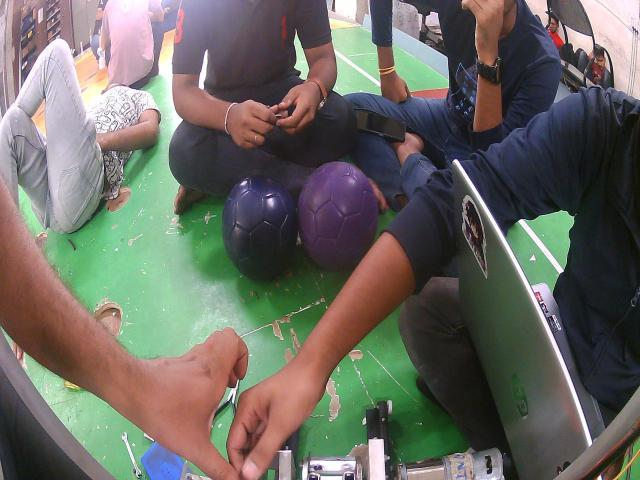jambhalya: (298, 162, 379, 270)
kaalyya: (222, 177, 298, 280)
